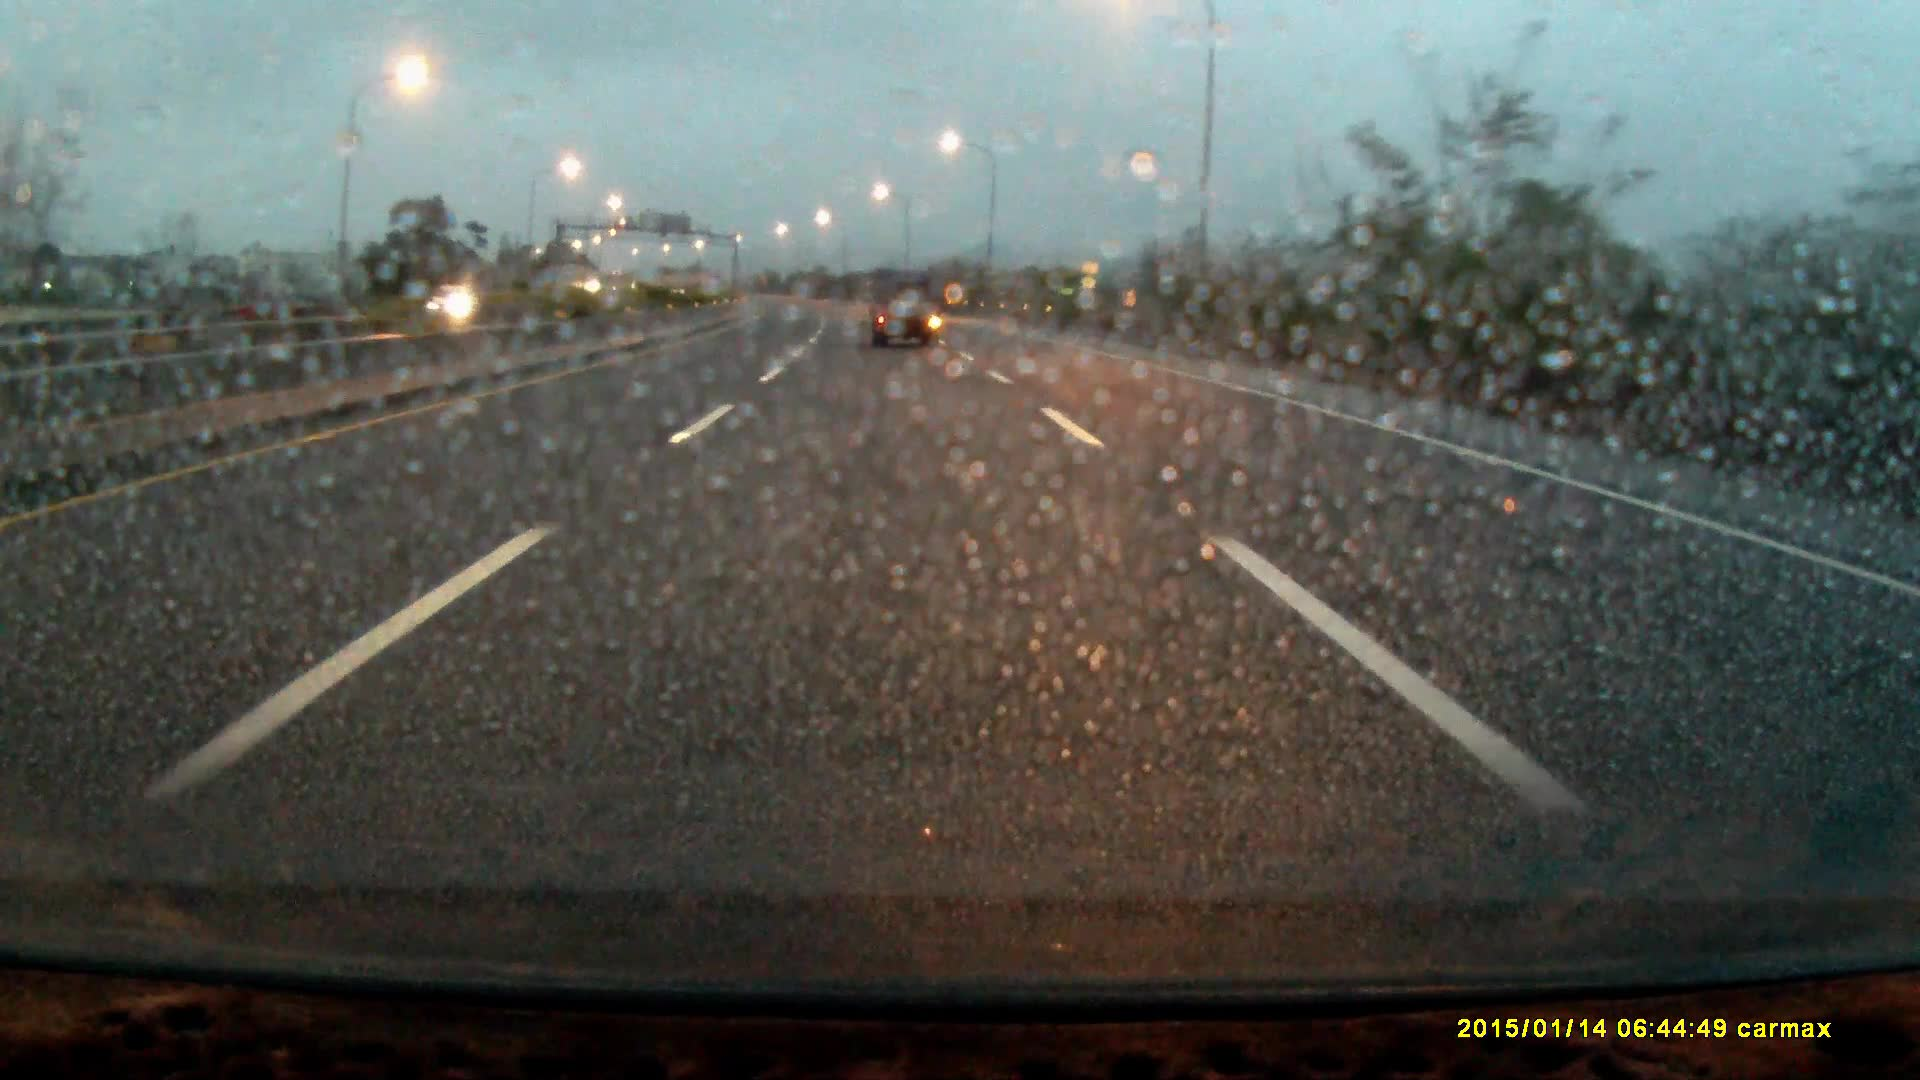vehicle: (868, 268, 938, 352), (418, 282, 488, 320)
